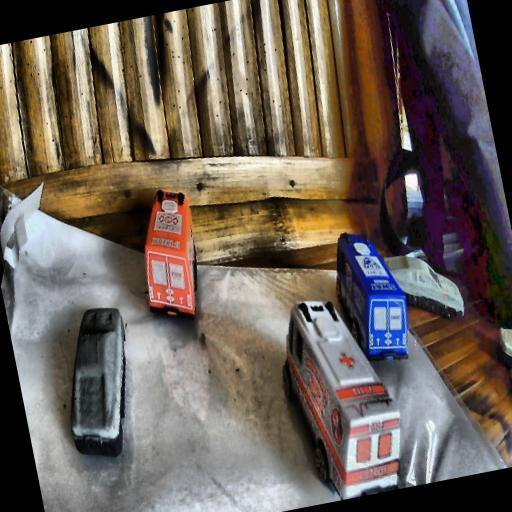ambulance: (272, 285, 412, 506)
fire_truck: (128, 184, 212, 327)
normal_car: (48, 304, 149, 465), (381, 246, 465, 330)
police car: (326, 224, 418, 369)
